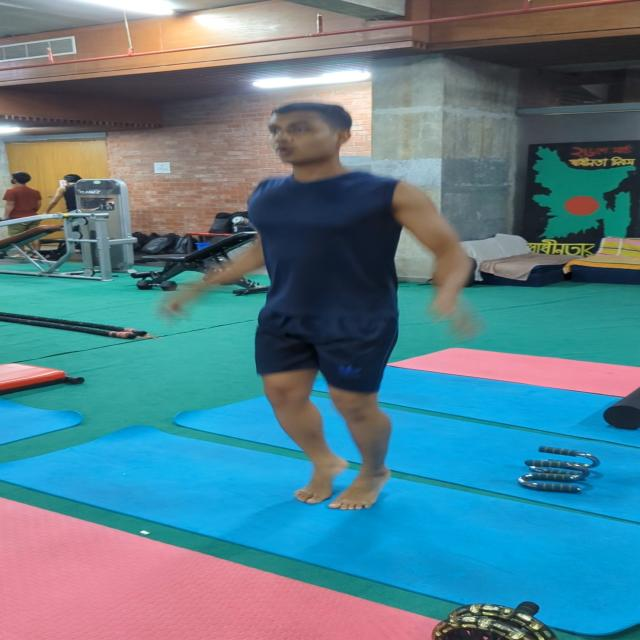Normal_JumpingJacks: (152, 109, 506, 542)
